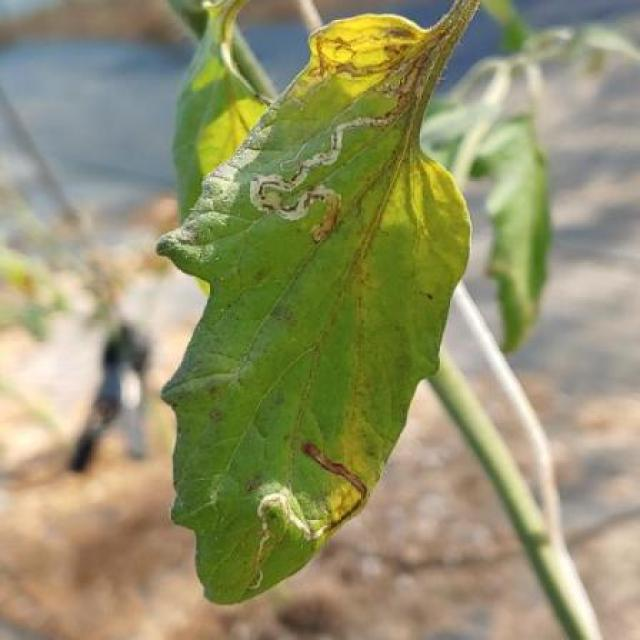Leaf Miner: (154, 1, 484, 608)
